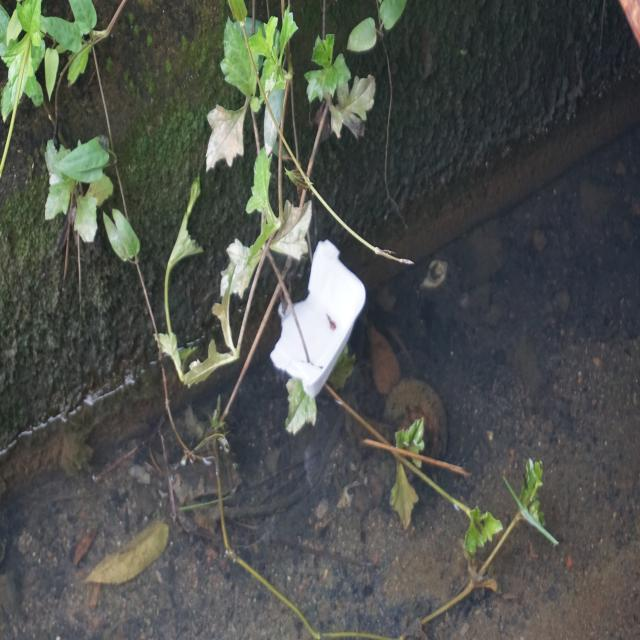Bungkus Makanan: (270, 235, 368, 403)
